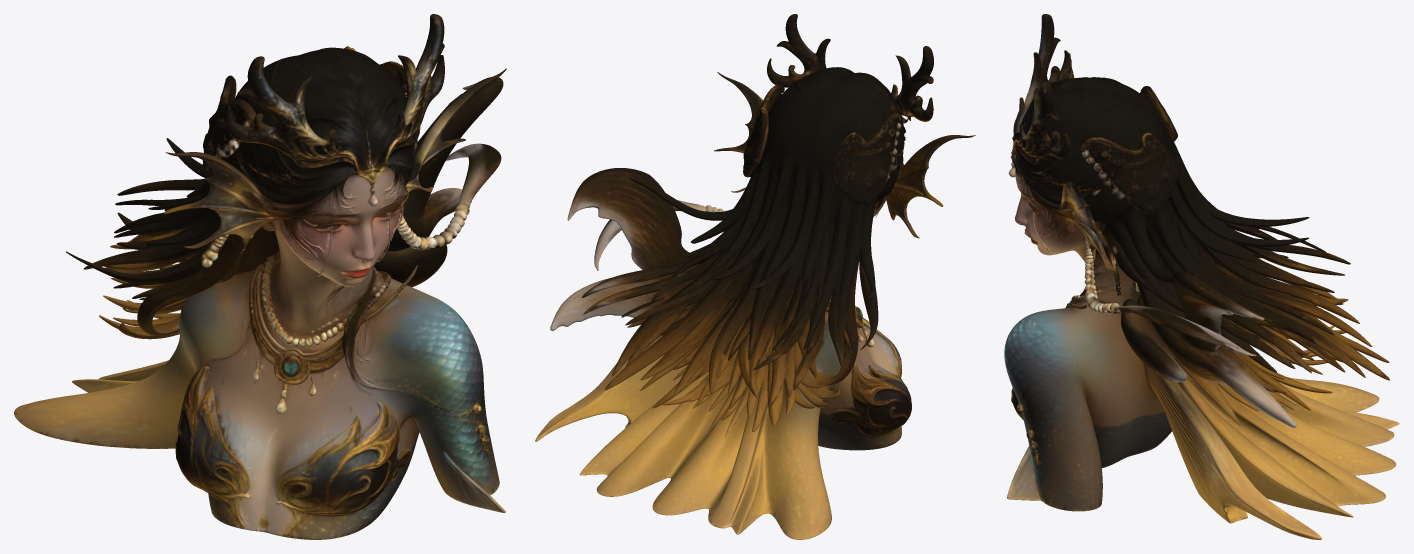
Rendered from jiao-ren.glb.
3 views of the same model, side by side, from view 1: azimuth 30°, elevation 25°; view 2: azimuth 150°, elevation 25°; view 3: azimuth 270°, elevation 25° (orthographic). The views are drawn at different scales.
Visible parts, largest first — view 1: node_0; view 2: node_0; view 3: node_0.
Part boxes in pixels (<box>): node_0: <box>14,14,506,539</box>; node_0: <box>535,14,975,539</box>; node_0: <box>1004,14,1399,539</box>.
Size of the model in its own units: 0.7393 by 0.8131 by 0.732.
Materials: 1 (1 with a texture image).
